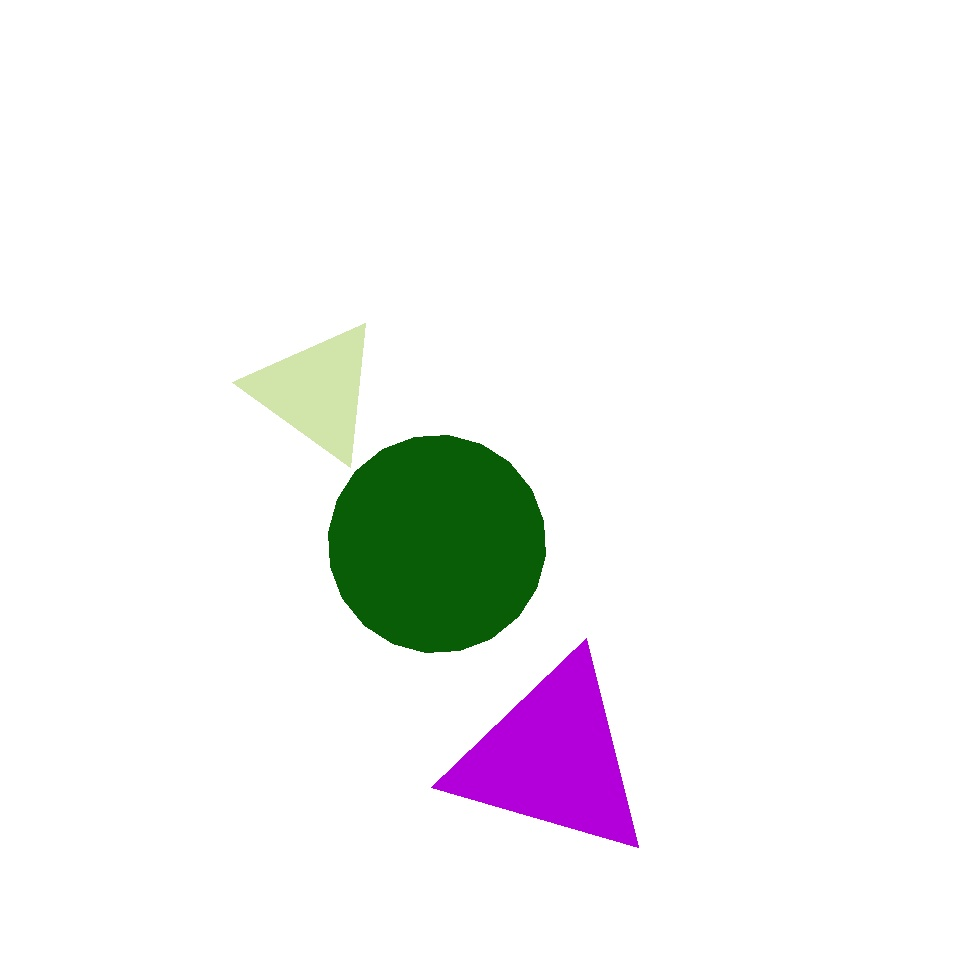circle: (604, 243, 818, 473), (448, 654, 655, 862), (250, 319, 382, 463)
square: (654, 582, 920, 850)
triangle: (328, 436, 546, 652)
